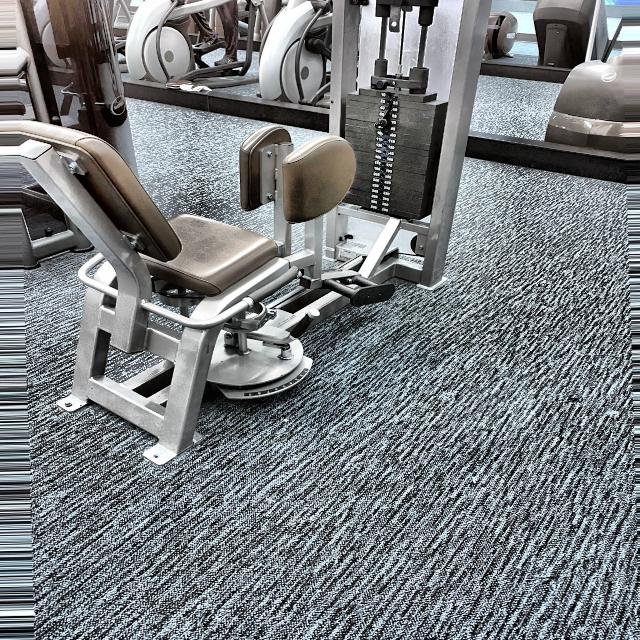hip_adduction_machine: (36, 70, 331, 453)
